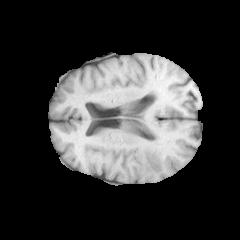glioma: (142, 141, 164, 174)
